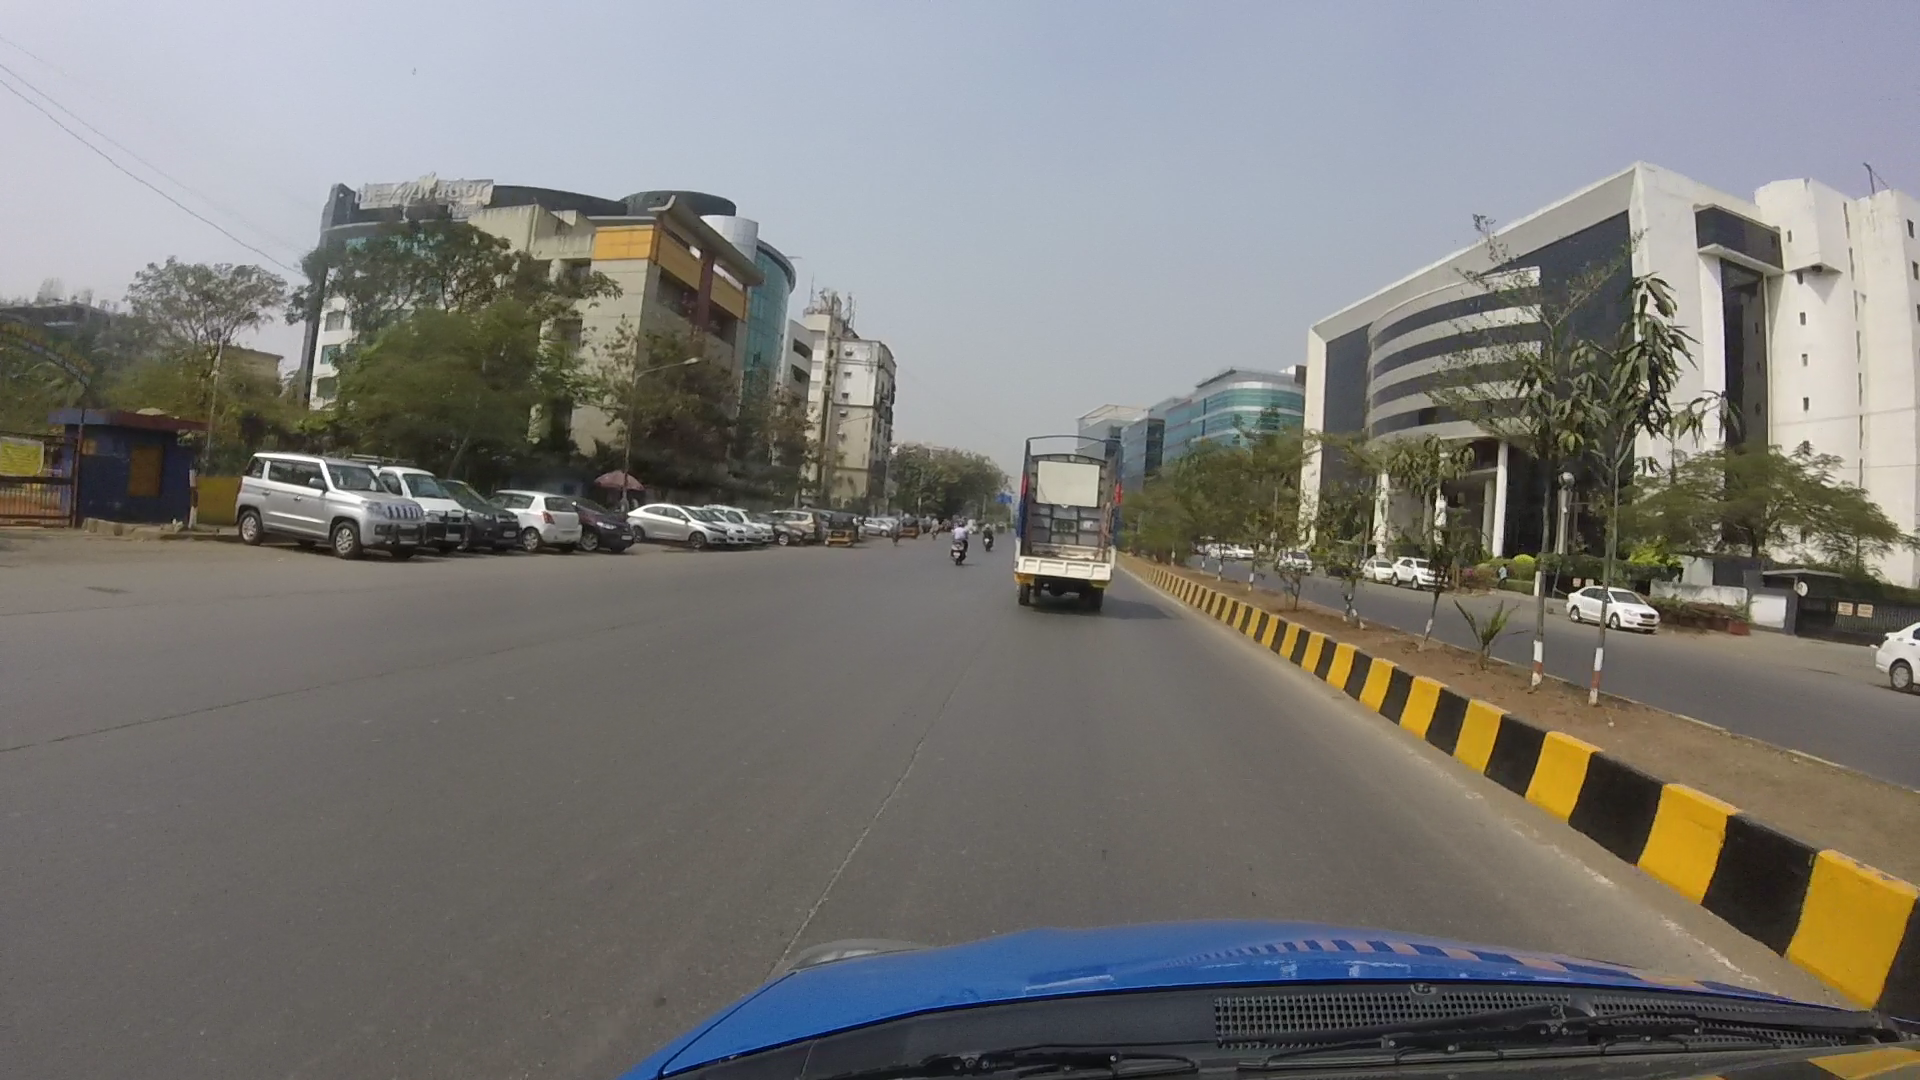car: (231, 439, 407, 560), (625, 489, 719, 549), (1567, 568, 1648, 626)
truck: (1007, 427, 1127, 613)
